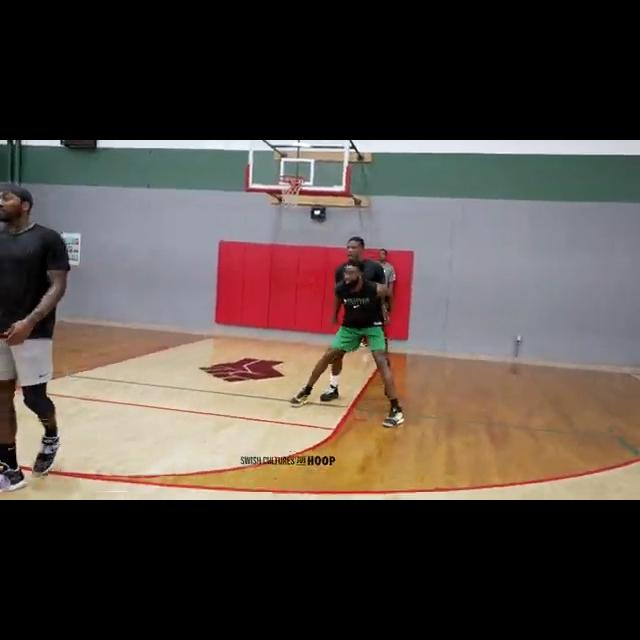hoop: (278, 174, 305, 211)
person: (0, 185, 73, 491), (294, 236, 408, 429), (319, 238, 399, 404), (374, 249, 399, 366)
